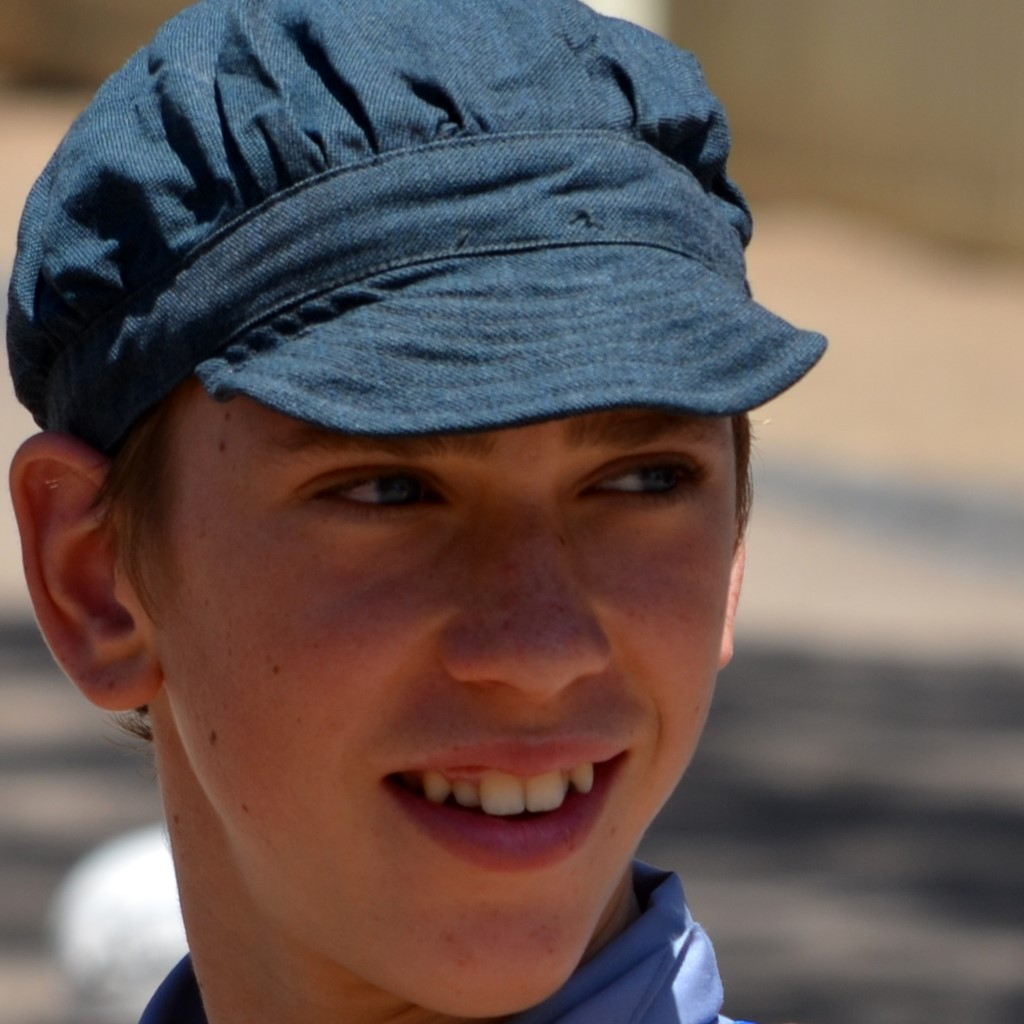sin_mascara: (130, 203, 728, 1011)
